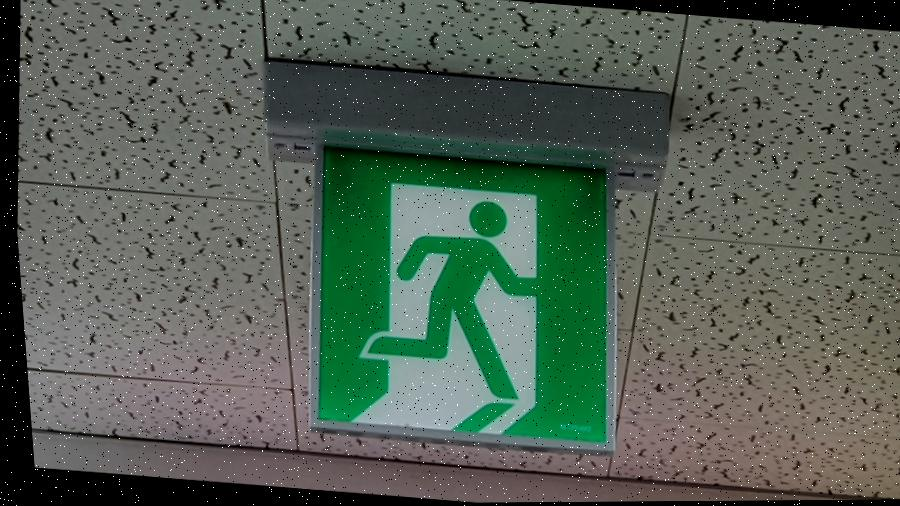emergency_exit: (309, 130, 617, 454)
